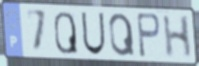7: (24, 8, 48, 55)
H: (161, 15, 192, 60)
P: (135, 11, 162, 60)
Q: (108, 12, 137, 59), (53, 10, 79, 56)
U: (80, 11, 107, 57)
